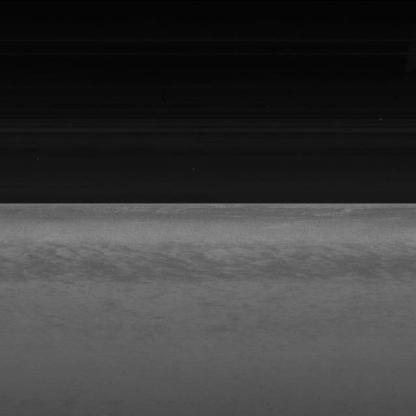silk_spot: (180, 231, 287, 283)
